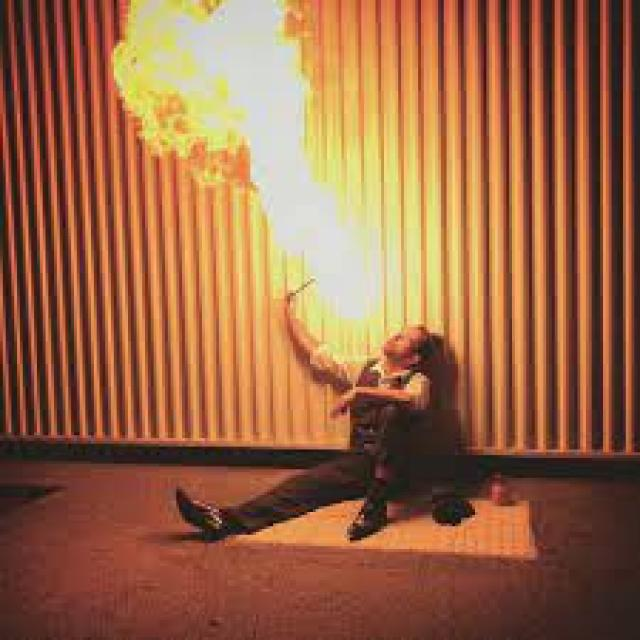fire: (110, 0, 309, 187), (252, 182, 384, 333)
